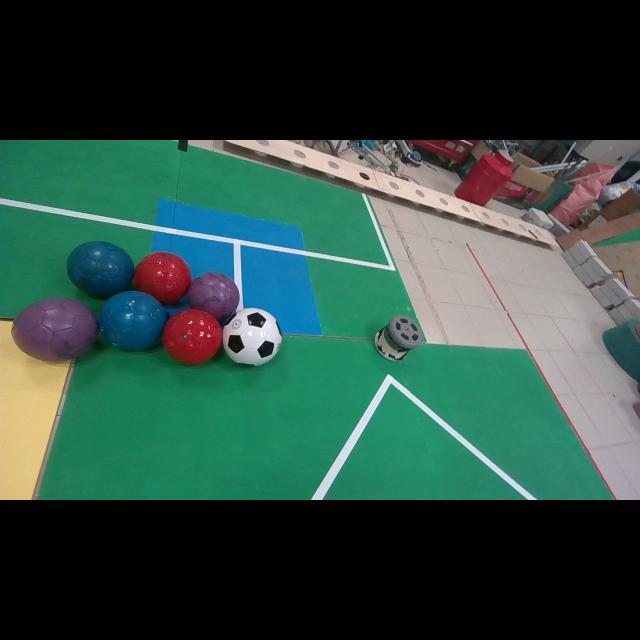B: (99, 291, 166, 350), (68, 241, 134, 299)
P: (11, 298, 98, 361), (188, 272, 240, 322)
R: (162, 309, 222, 364), (134, 251, 191, 304)
